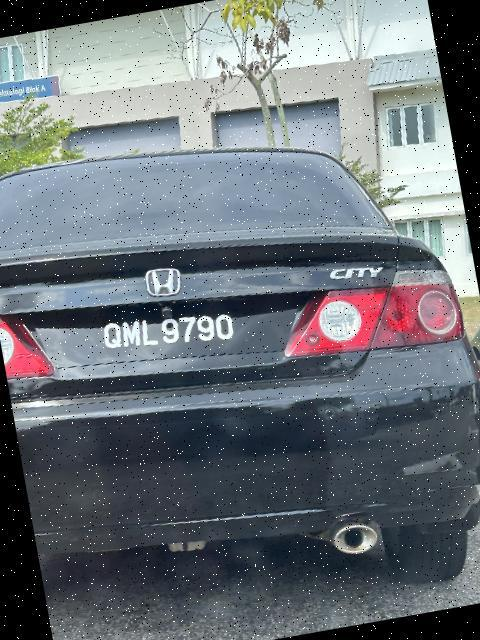License_Plate: (55, 282, 282, 374)
QML9790: (55, 282, 282, 374)
car: (1, 82, 480, 640)
